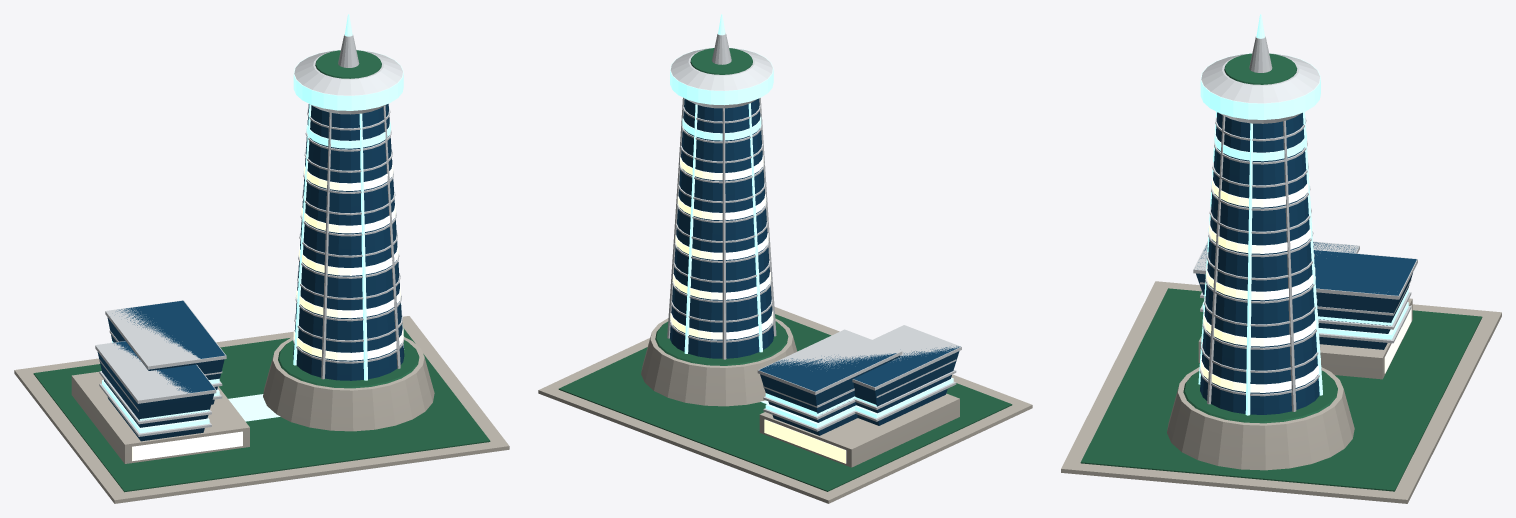
Rendered from thuthiem_exhibition_and_tower.glb.
The picture shows the model from 3 angles, left to right: view 1: azimuth 30°, elevation 25°; view 2: azimuth 150°, elevation 25°; view 3: azimuth 270°, elevation 25°; orthographic projection. The views are drawn at different scales.
Visible parts, largest first — view 1: thuthiem_exhibition_and_tower; view 2: thuthiem_exhibition_and_tower; view 3: thuthiem_exhibition_and_tower.
Part boxes in pixels (x1,y1,x2,y2): thuthiem_exhibition_and_tower: [14, 14, 509, 503]; thuthiem_exhibition_and_tower: [538, 14, 1032, 503]; thuthiem_exhibition_and_tower: [1061, 14, 1501, 503].
Size of the model in its own units: 187 by 168 by 159.
